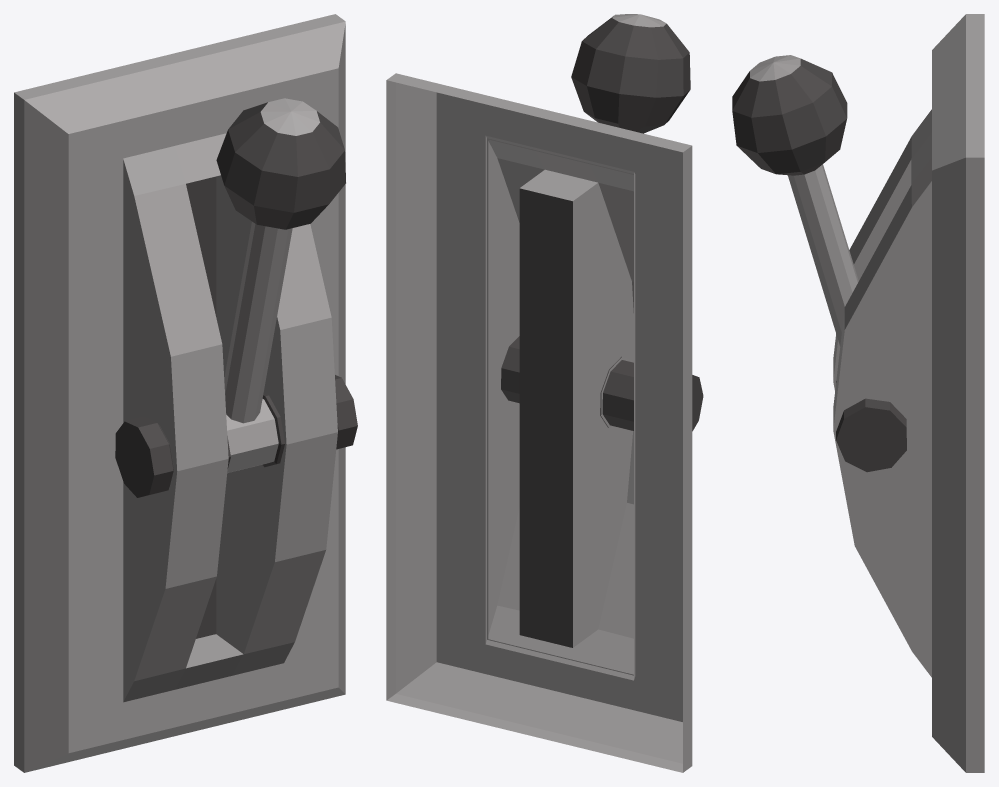
The model's file is WallSwitch_4.fbx.
The picture shows the model from 3 angles, left to right: view 1: azimuth 30°, elevation 25°; view 2: azimuth 150°, elevation 25°; view 3: azimuth 270°, elevation 25°; orthographic projection. The views are drawn at different scales.
Visible parts, largest first — view 1: WallSwitch_4_Casing, WallSwitch_4_Handle; view 2: WallSwitch_4_Casing, WallSwitch_4_Handle; view 3: WallSwitch_4_Casing, WallSwitch_4_Handle.
Boxes of the visible parts, left/top/right/bottom form: WallSwitch_4_Casing: left=14, top=14, right=345, bottom=772; WallSwitch_4_Handle: left=115, top=98, right=357, bottom=497; WallSwitch_4_Casing: left=386, top=73, right=692, bottom=772; WallSwitch_4_Handle: left=501, top=14, right=703, bottom=431; WallSwitch_4_Casing: left=833, top=14, right=984, bottom=772; WallSwitch_4_Handle: left=732, top=55, right=906, bottom=472.
Size of the model in its own units: 27.48 by 57.11 by 20.43.
